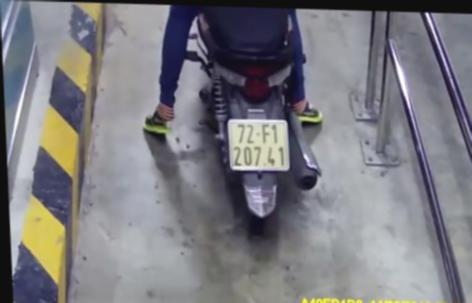License_Plate: (224, 116, 291, 176)
